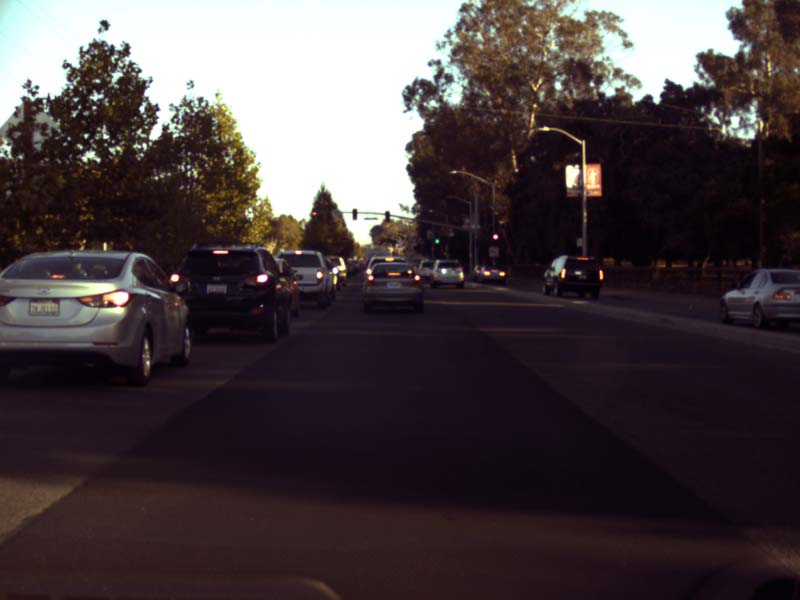Green: (433, 230, 440, 246)
Red: (492, 233, 499, 247), (311, 209, 318, 222)
